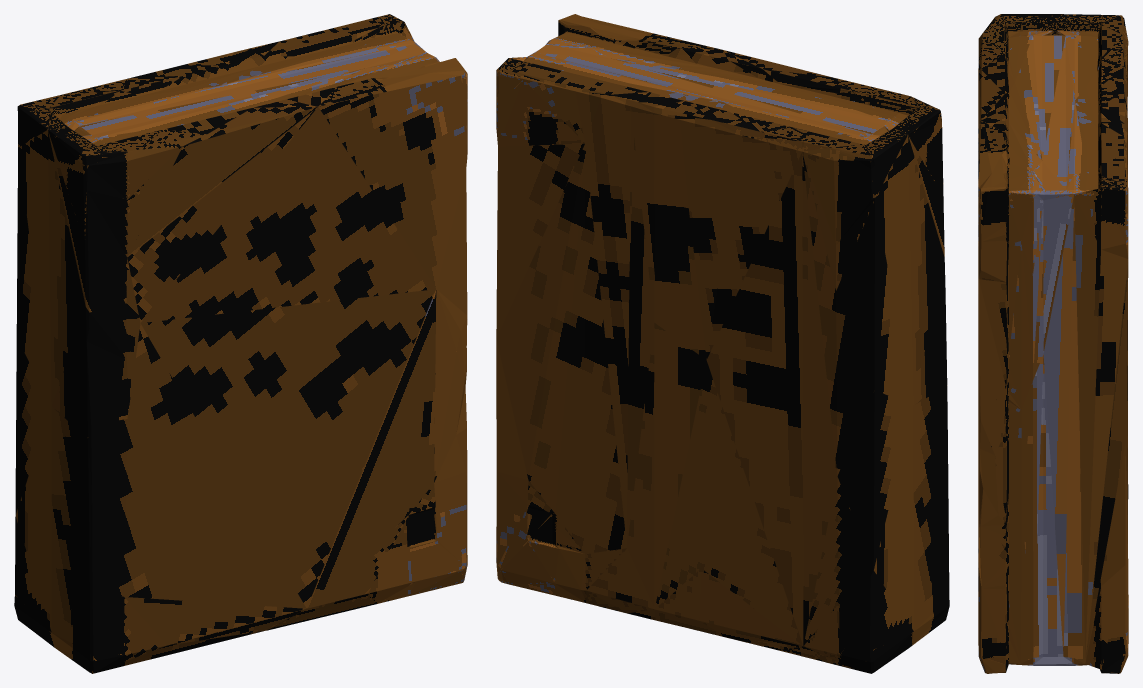
3 renders of one model, left to right at view 1: azimuth 30°, elevation 25°; view 2: azimuth 150°, elevation 25°; view 3: azimuth 270°, elevation 25°, orthographic. The views are drawn at different scales.
Visible parts, largest first — view 1: OBJ135; view 2: OBJ135; view 3: OBJ135.
Part boxes in pixels (x1,y1,x2,y2): OBJ135: (14,14,467,673); OBJ135: (496,14,949,673); OBJ135: (978,14,1128,673).
Size of the model in its own units: 0.2807 by 0.3649 by 0.102.
1 material, 1 textured.
